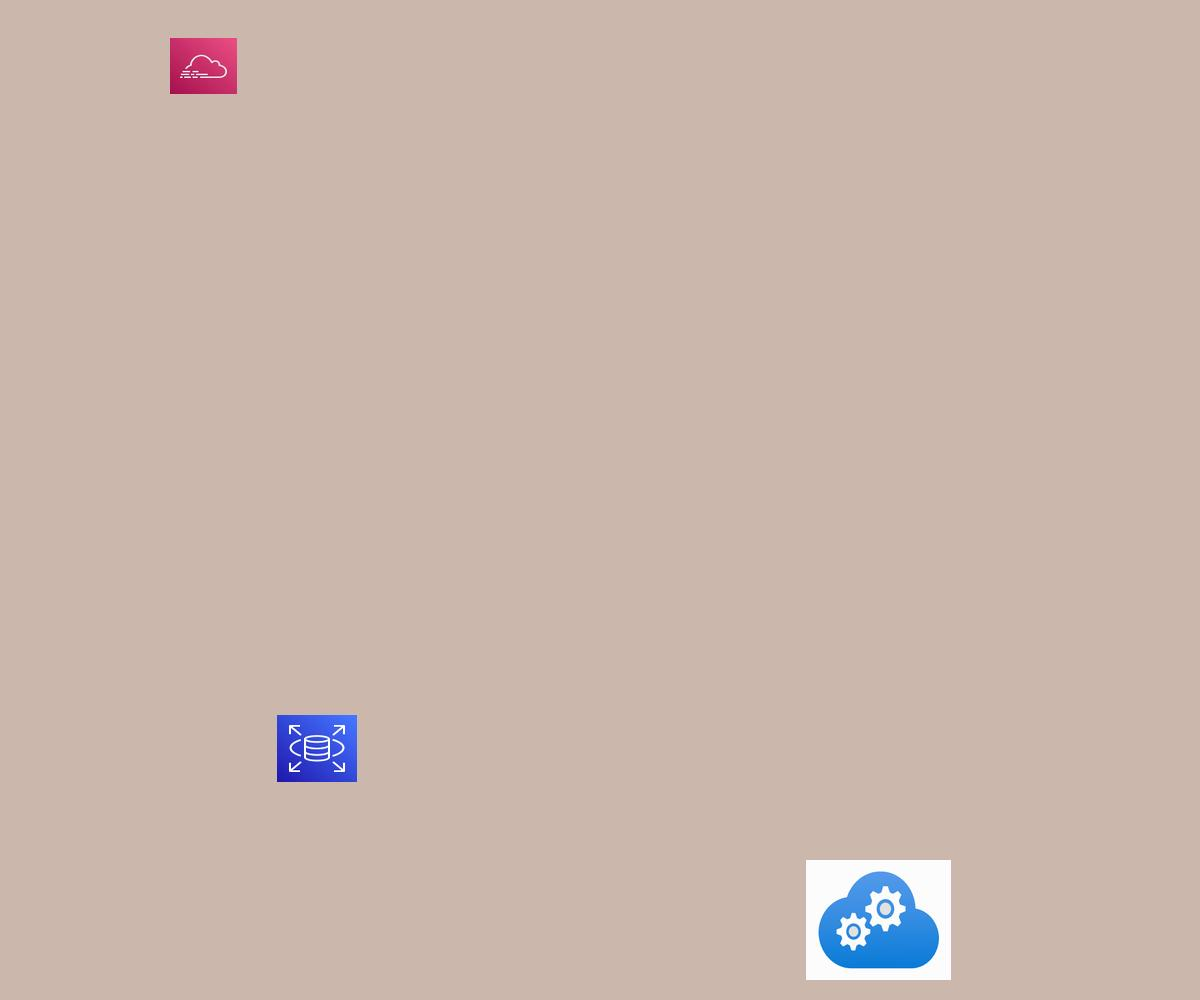AWS-CloudTrail: (170, 38, 237, 94)
AWS-RDS: (277, 715, 357, 782)
Azure_cloud_services: (806, 860, 951, 980)
